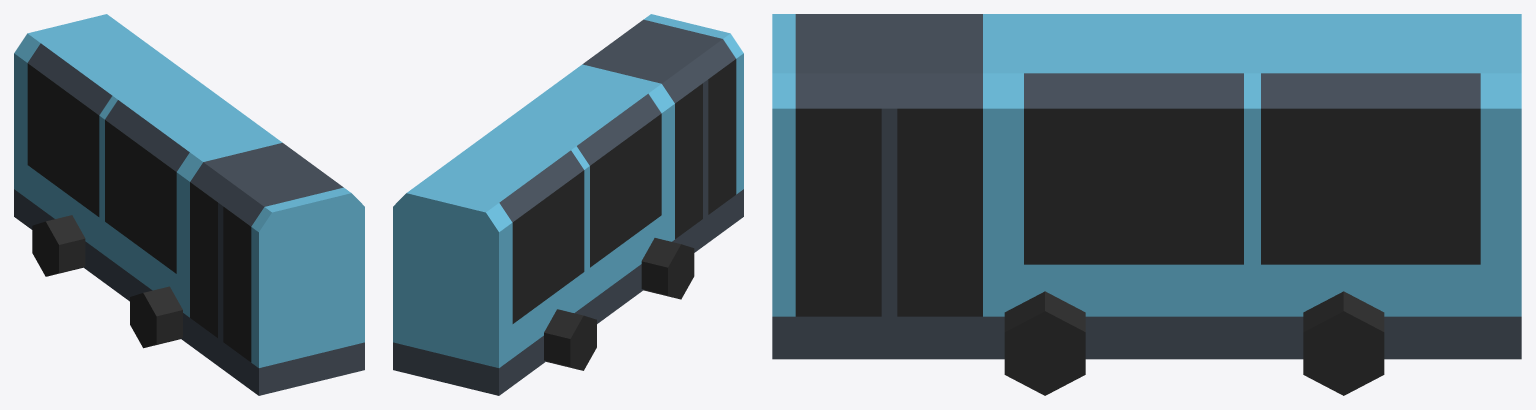
Rendered from Passenger.fbx.
3 views of the same model, side by side, from view 1: azimuth 30°, elevation 25°; view 2: azimuth 150°, elevation 25°; view 3: azimuth 270°, elevation 25° (orthographic). The views are drawn at different scales.
Visible parts, largest first — view 1: Passenger, BackWheel.003, FrontWheel.003; view 2: Passenger, FrontWheel.003, BackWheel.003; view 3: Passenger, BackWheel.003, FrontWheel.003.
Boxes of the visible parts, <box> form: Passenger: <box>14,14,364,395</box>; BackWheel.003: <box>32,215,85,276</box>; FrontWheel.003: <box>130,286,182,348</box>; Passenger: <box>393,14,743,395</box>; FrontWheel.003: <box>641,238,694,299</box>; BackWheel.003: <box>544,309,596,370</box>; Passenger: <box>772,14,1521,359</box>; BackWheel.003: <box>1303,291,1384,395</box>; FrontWheel.003: <box>1004,291,1085,395</box>.
Size of the model in its own units: 300 by 345 by 800.
